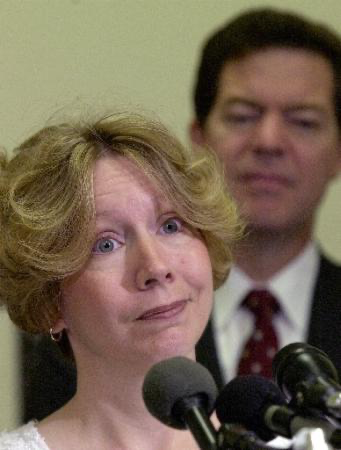Face: (55, 169, 202, 352), (205, 64, 339, 223)
